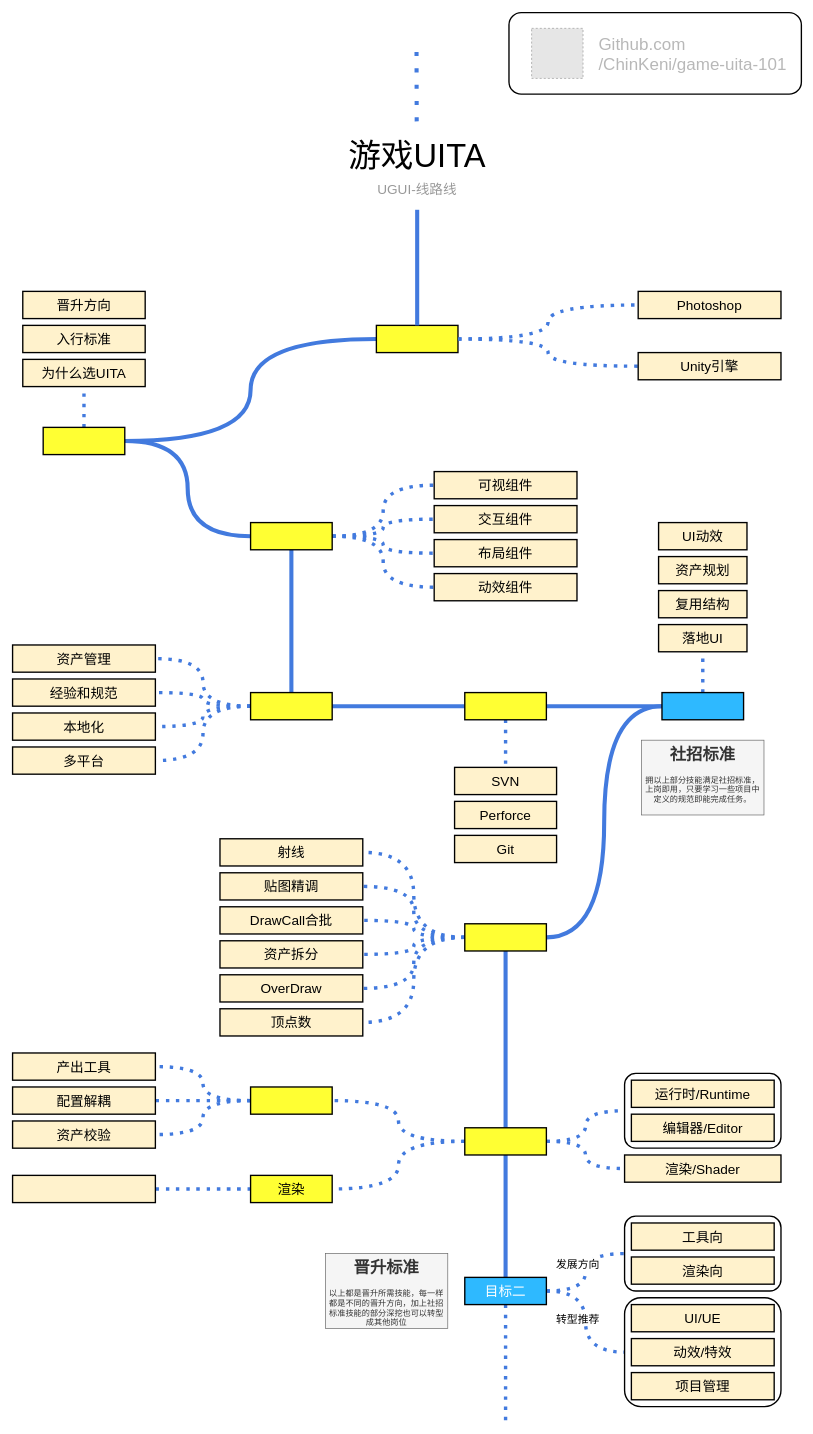
Some shapes in this 813 by 1434 pixel diagram are drawn without their labels. Grey dashed boxes stand in for pictures. The centre of each missing label's shape, as x and y in pixels:
"UGUI基础" belongs at point 291,536.
"基础认知" belongs at point 83,440.
"工业化" belongs at point 291,1100.
"引擎扩展" belongs at point 505,1141.
"性能优化" belongs at point 505,937.
"版本管理" belongs at point 505,706.
"目标一" belongs at point 702,706.
"表现提升" belongs at point 84,1188.
"软件基础" belongs at point 416,338.
"项目知识" belongs at point 291,706.
